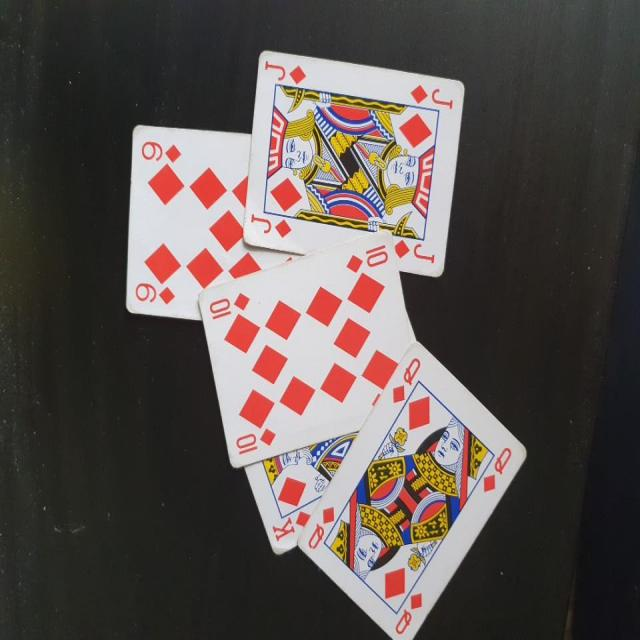10 Diamonds: (196, 228, 413, 470)
9 Diamonds: (127, 122, 306, 317)
J Diamonds: (243, 48, 467, 277)
K Diamonds: (244, 418, 362, 556)
Q Diamonds: (295, 338, 530, 639)
